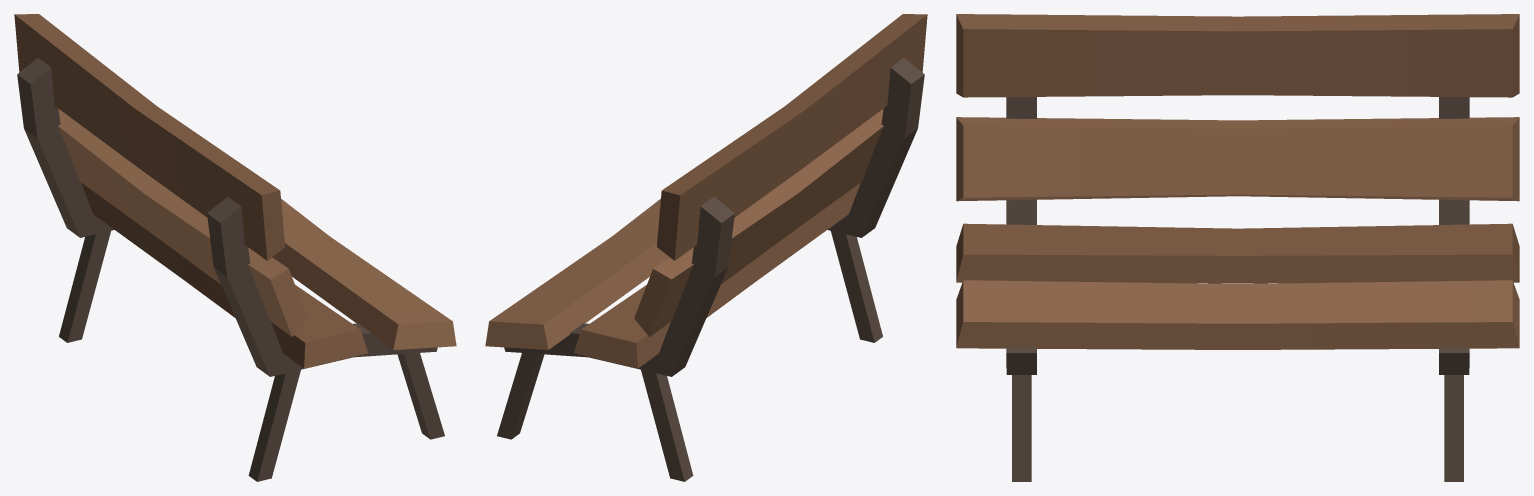
File: Bench.glb
The picture shows the model from 3 angles, left to right: view 1: azimuth 30°, elevation 25°; view 2: azimuth 150°, elevation 25°; view 3: azimuth 270°, elevation 25°; orthographic projection. The views are drawn at different scales.
Parts seen in each view (by area): view 1: Object_4, Object_5, Object_2, Object_3; view 2: Object_4, Object_5, Object_2, Object_3; view 3: Object_5, Object_4, Object_2, Object_3.
Part boxes in pixels (x1=…): Object_4: x1=14, y1=14, x2=367, y2=368; Object_5: x1=58, y1=108, x2=456, y2=349; Object_2: x1=17, y1=57, x2=437, y2=376; Object_3: x1=59, y1=231, x2=444, y2=481; Object_4: x1=574, y1=14, x2=927, y2=368; Object_5: x1=485, y1=108, x2=883, y2=349; Object_2: x1=504, y1=57, x2=924, y2=376; Object_3: x1=497, y1=231, x2=882, y2=481; Object_5: x1=956, y1=117, x2=1519, y2=349; Object_4: x1=956, y1=14, x2=1519, y2=283; Object_2: x1=1006, y1=97, x2=1469, y2=374; Object_3: x1=1012, y1=375, x2=1463, y2=481.
Bounding box in the file's own units: 3.64 × 4.74 × 6.87.
